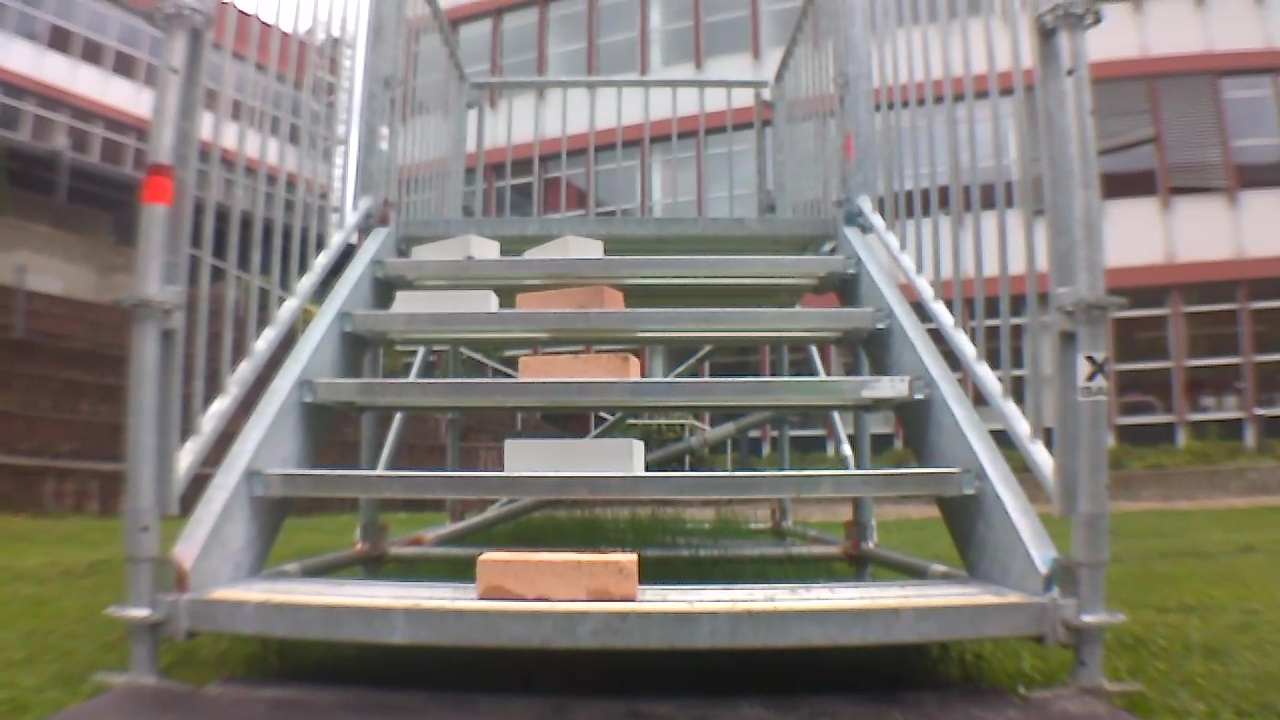brick: (477, 553, 637, 599), (505, 438, 643, 473), (519, 353, 640, 380), (515, 285, 622, 311), (397, 289, 498, 311), (412, 235, 500, 259), (523, 236, 602, 257)
edge: (185, 597, 1050, 645), (248, 469, 979, 499), (301, 376, 931, 402), (342, 308, 895, 329), (374, 256, 862, 275), (399, 217, 837, 236)
stairs: (103, 3, 1122, 686)
steps: (182, 212, 1060, 660)
